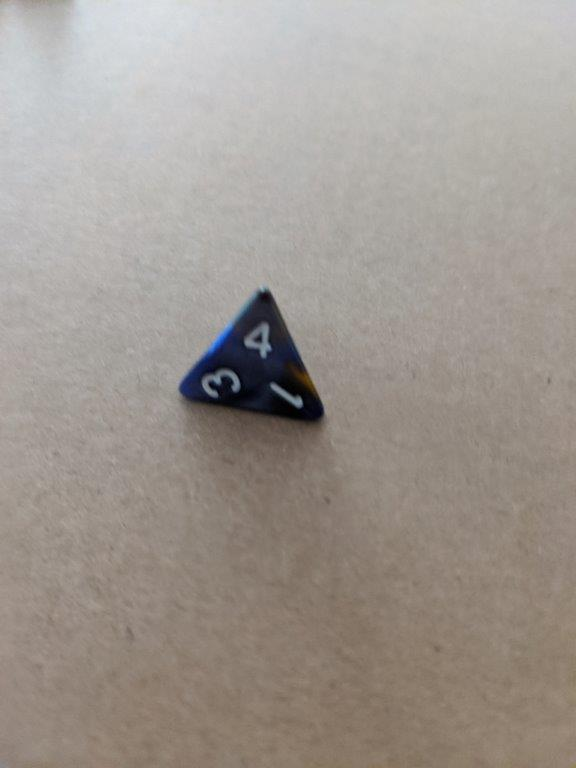d4-4: (175, 283, 327, 430)
